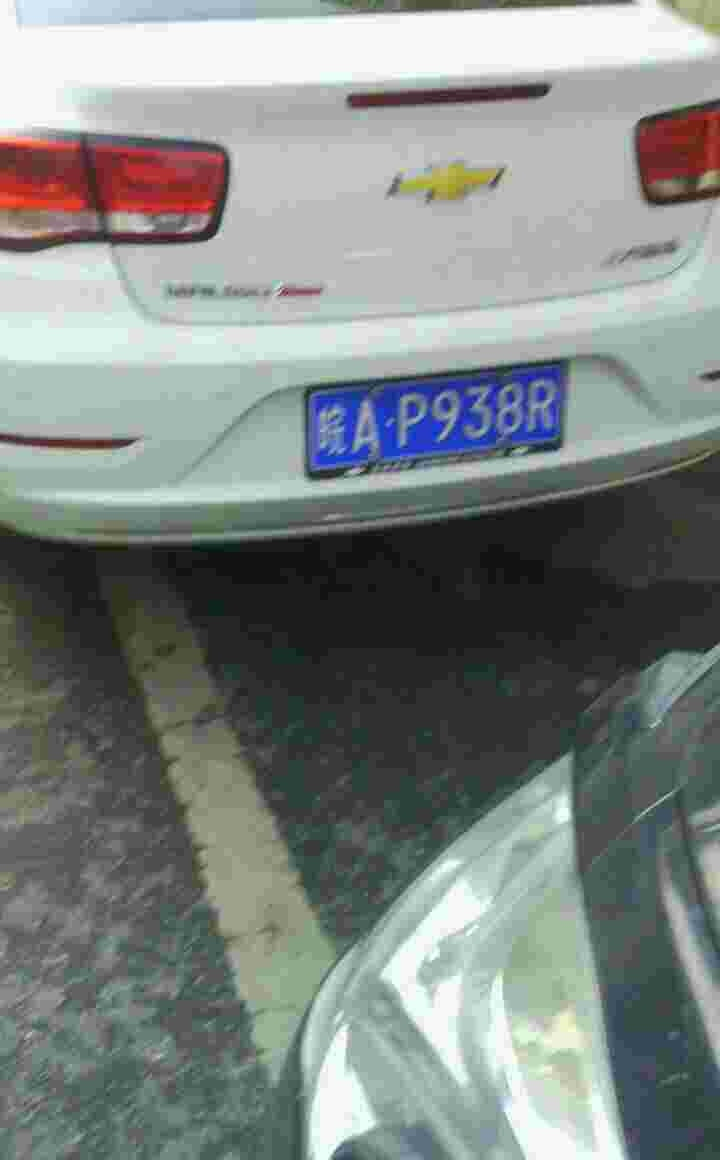license_plate: (300, 369, 552, 484)
